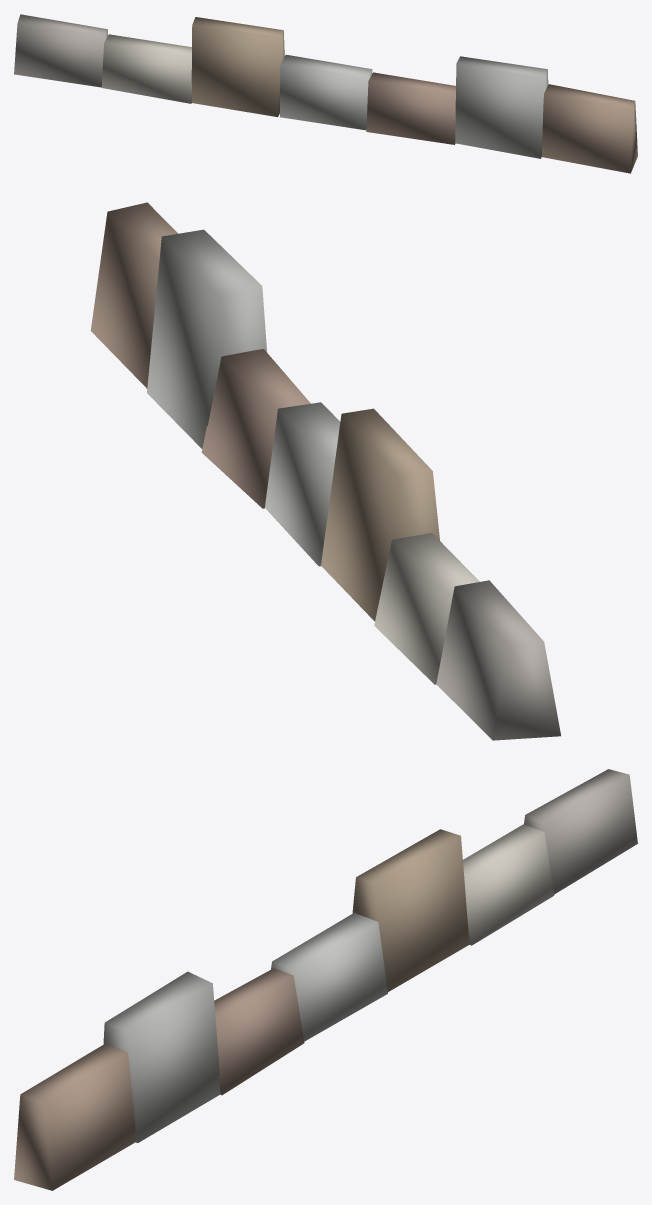
Rendered from farm_4_17_far.glb.
3 views of the same model, one above another, from view 1: azimuth 30°, elevation 25°; view 2: azimuth 150°, elevation 25°; view 3: azimuth 270°, elevation 25° (orthographic). The views are drawn at different scales.
Visible parts, largest first — view 1: geometry_0; view 2: geometry_0; view 3: geometry_0.
Boxes of the visible parts, bbox=[...] form: geometry_0: bbox=[14, 14, 637, 173]; geometry_0: bbox=[90, 202, 560, 740]; geometry_0: bbox=[14, 769, 637, 1190].
Size of the model in its own units: 8.73 by 2.11 by 7.77.
